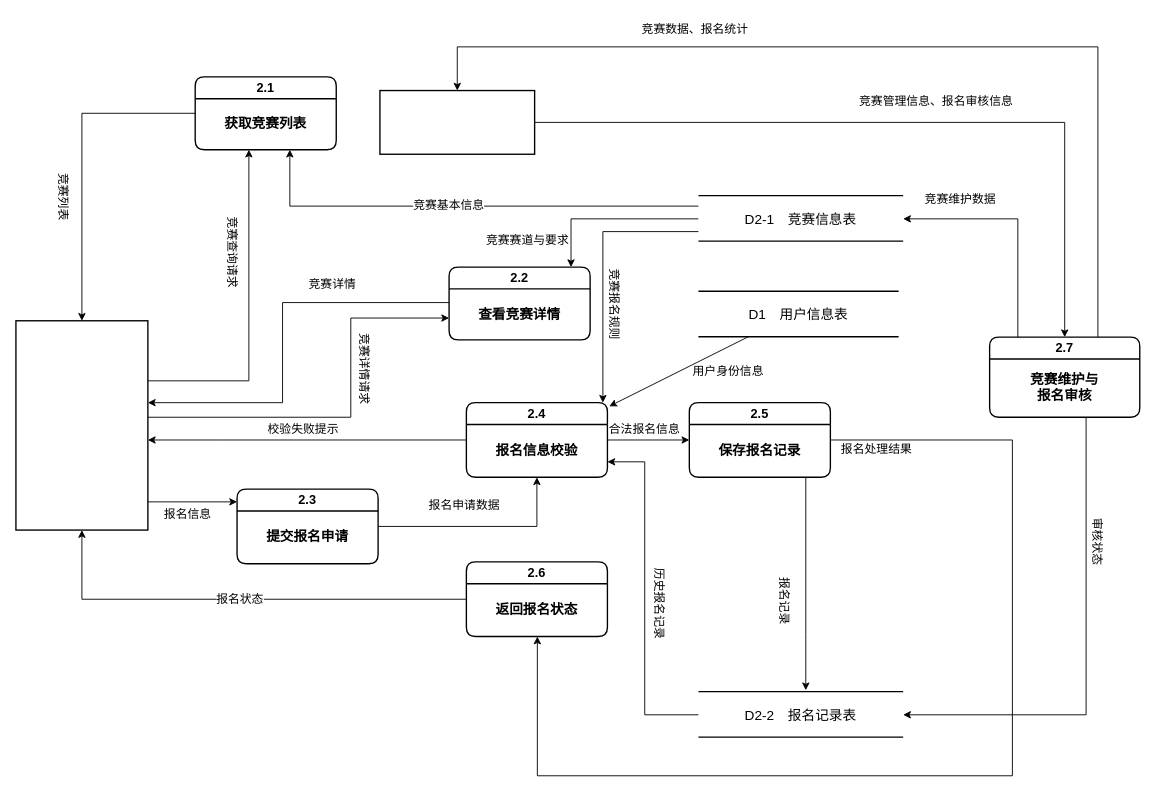
This 1157x799 diagram has some shape labels left out. The box of each missing label's shape, as (x1, y1, x2, y2) in pixels:
学生: (15, 320, 148, 530)
管理员: (379, 89, 535, 155)
